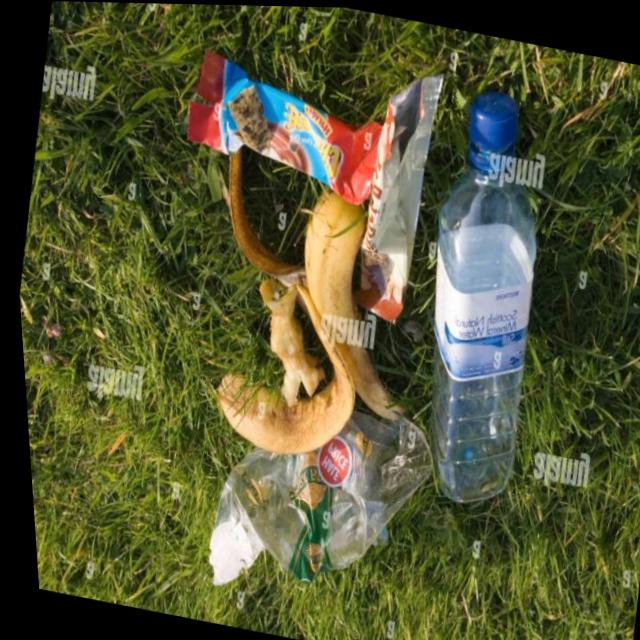fabric: (174, 161, 436, 486)
leaf: (385, 70, 593, 510), (176, 368, 444, 634), (143, 39, 389, 225), (337, 46, 469, 342)
